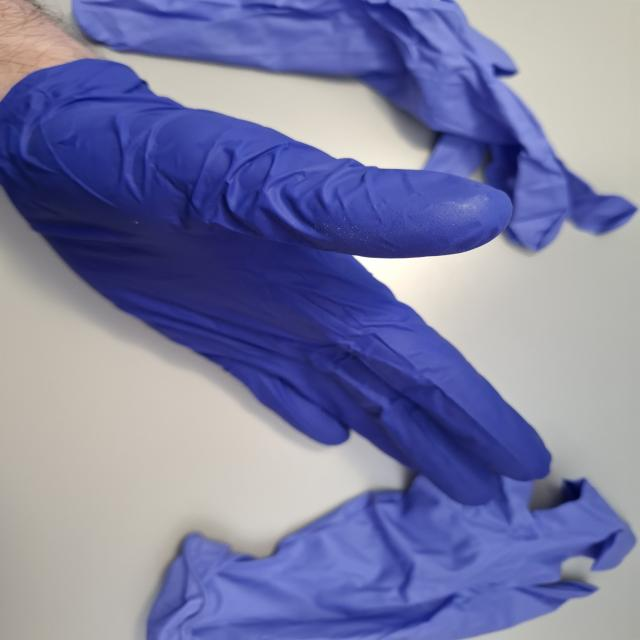glove_on: (0, 52, 560, 511)
